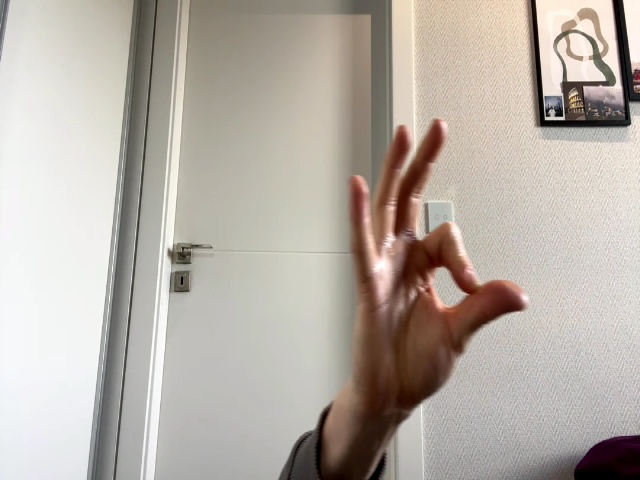S: (350, 119, 531, 413)
